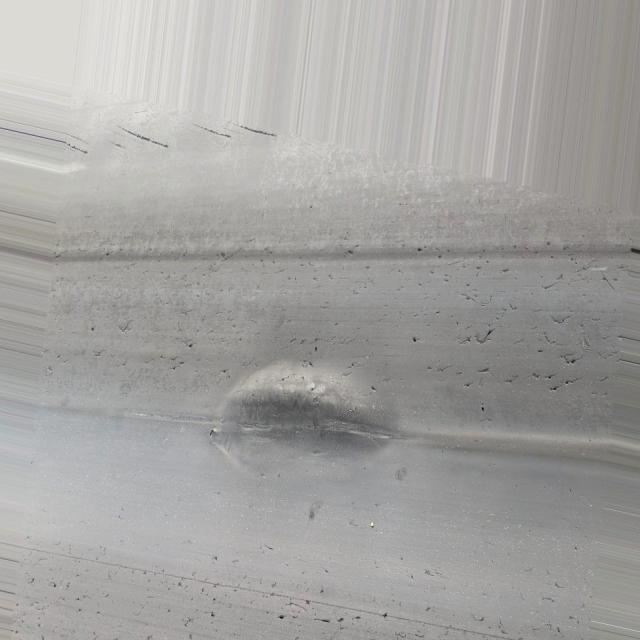impact damage: (210, 351, 400, 480)
